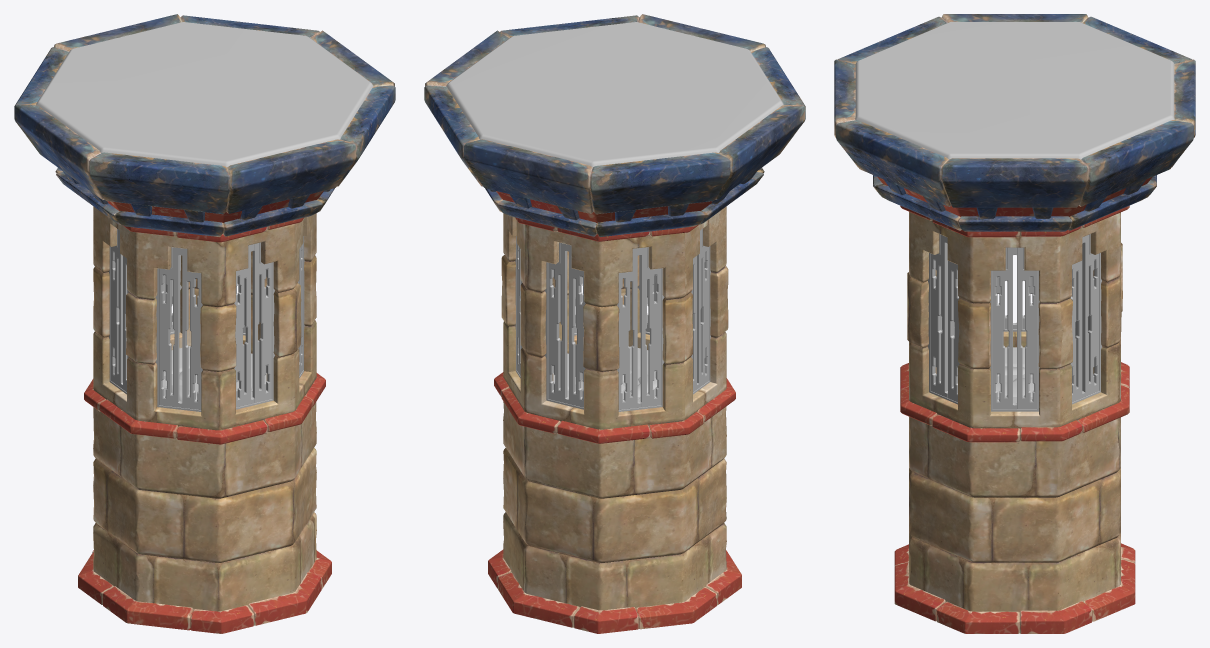
The picture shows the model from 3 angles, left to right: view 1: azimuth 30°, elevation 25°; view 2: azimuth 150°, elevation 25°; view 3: azimuth 270°, elevation 25°; orthographic projection.
Visible parts, largest first — view 1: SM_Menaphite_Ruins_Tower_02v1_LOD0; view 2: SM_Menaphite_Ruins_Tower_02v1_LOD0; view 3: SM_Menaphite_Ruins_Tower_02v1_LOD0.
Part boxes in pixels (<box>): SM_Menaphite_Ruins_Tower_02v1_LOD0: <box>14,14,395,633</box>; SM_Menaphite_Ruins_Tower_02v1_LOD0: <box>424,14,805,633</box>; SM_Menaphite_Ruins_Tower_02v1_LOD0: <box>834,14,1195,633</box>.
Size of the model in its own units: 6.74 by 10.19 by 6.74.
